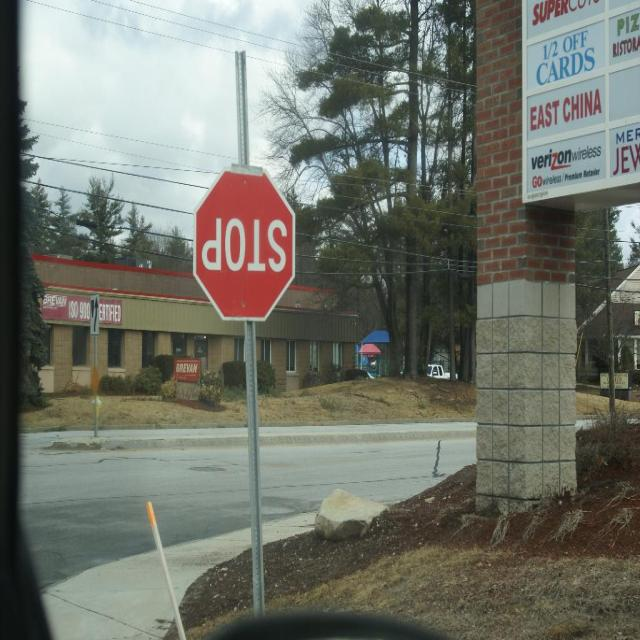Stop-sign: (190, 172, 296, 322)
